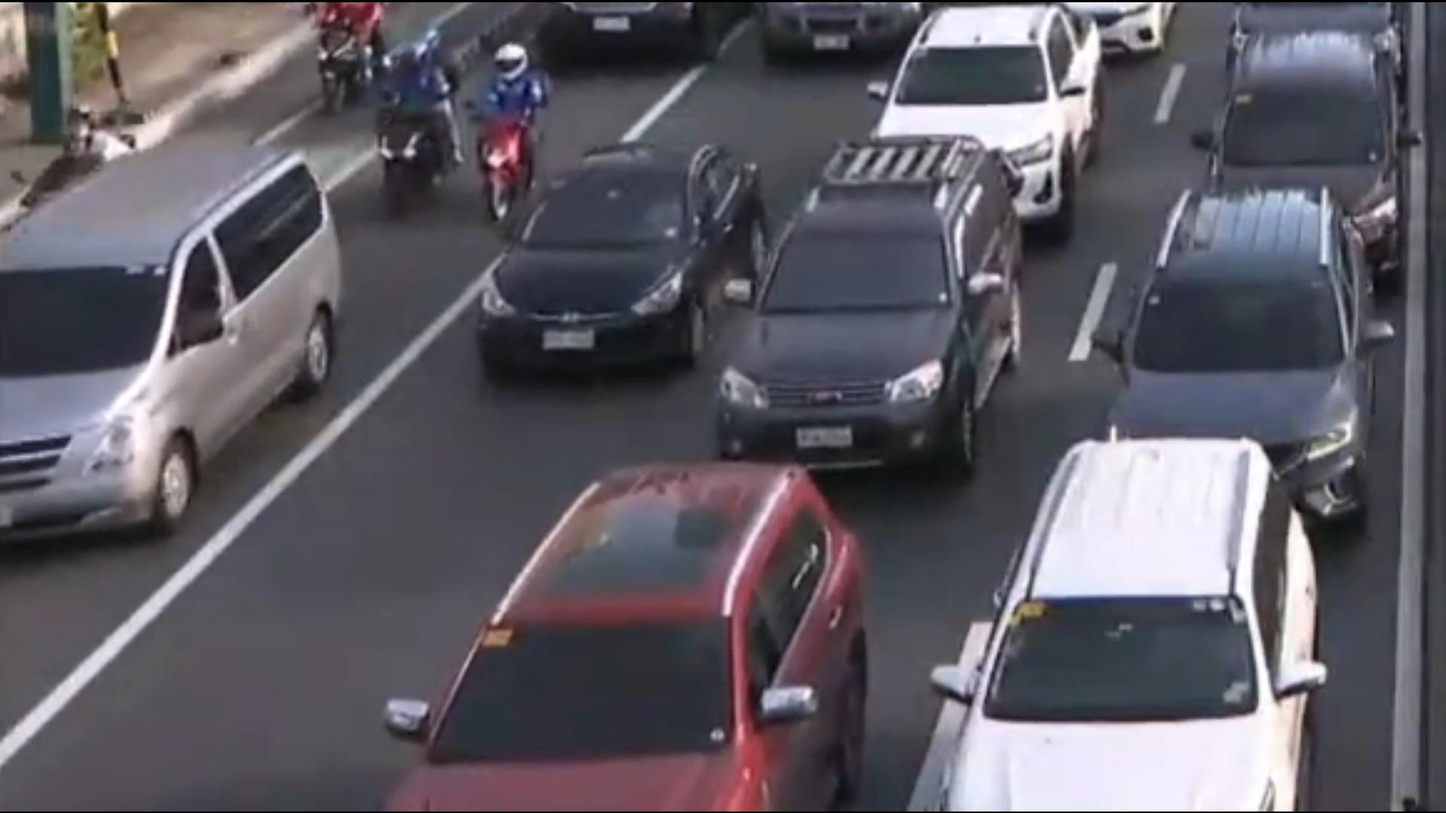Motorcycle: (472, 36, 565, 223), (372, 26, 460, 211), (312, 3, 396, 106)
Pickup: (826, 0, 1109, 250)
SUV: (359, 441, 898, 813), (921, 434, 1339, 813), (681, 146, 1038, 482), (1095, 179, 1396, 522), (1190, 27, 1407, 288)
Sedan: (458, 140, 797, 392)
Van: (0, 130, 354, 558)
